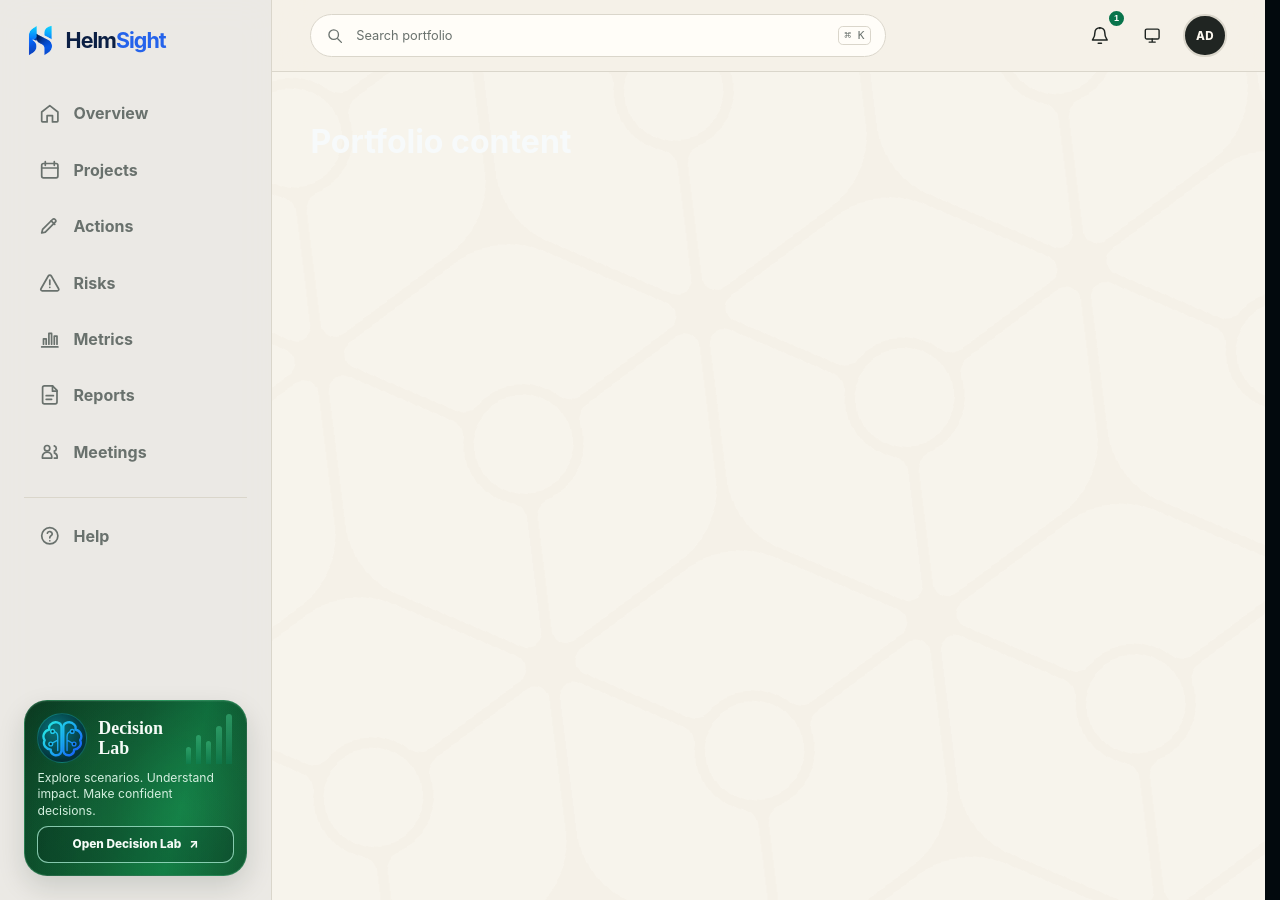
Test: Decision Lab modal › saves submitted decisions, allows closing, then resumes at feedback
Click the button with aria-label "Open Decision Lab": (136, 788) 24,700 -> 247,876
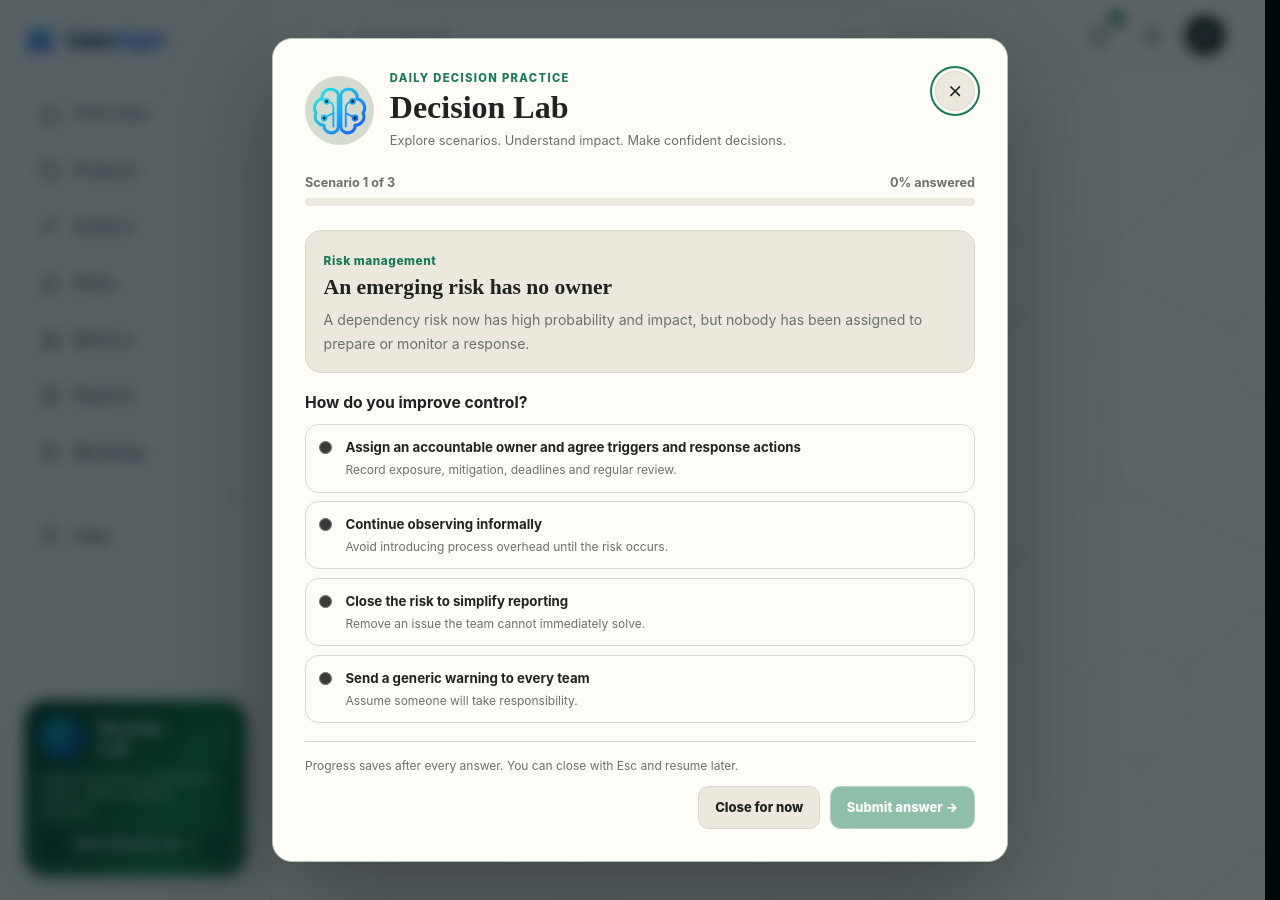
Click the 1st radio button: (325, 448) 319,441 -> 332,454
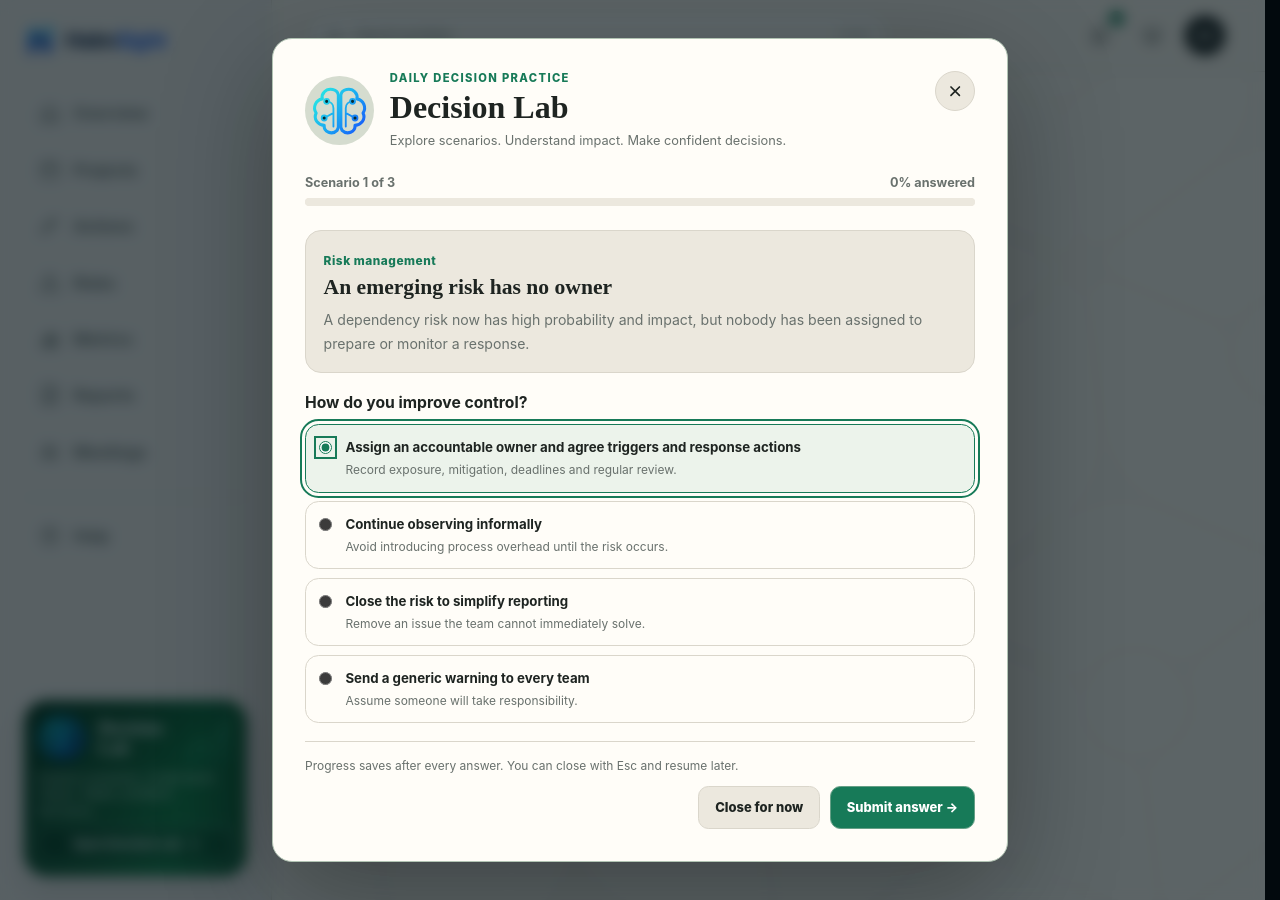
Click the button "Submit answer →": (902, 807) 830,786 -> 975,829
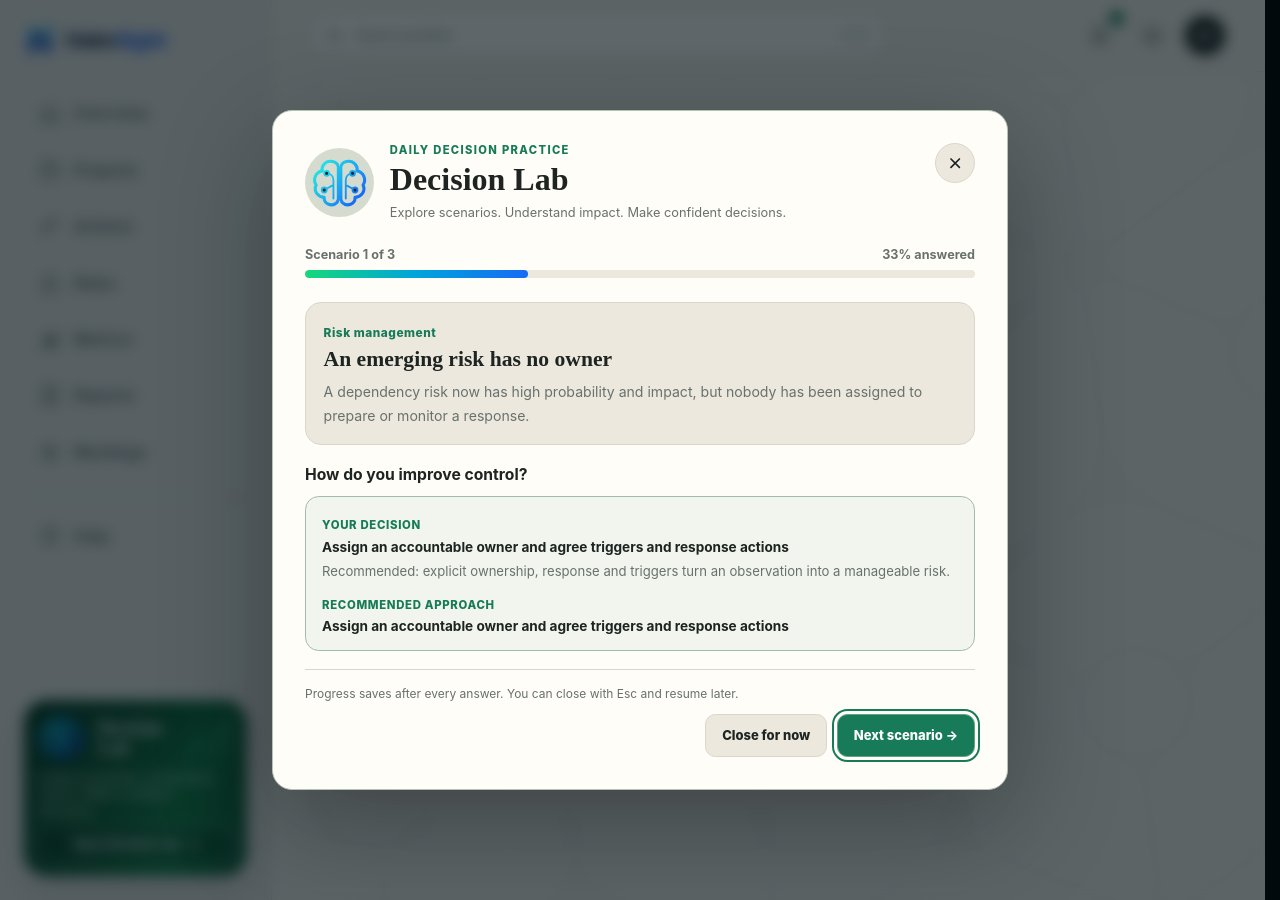
Now the text "Recommended approach" is shown, box 322,598 -> 495,612
Click the button "Close for now": (766, 735) 705,714 -> 827,757
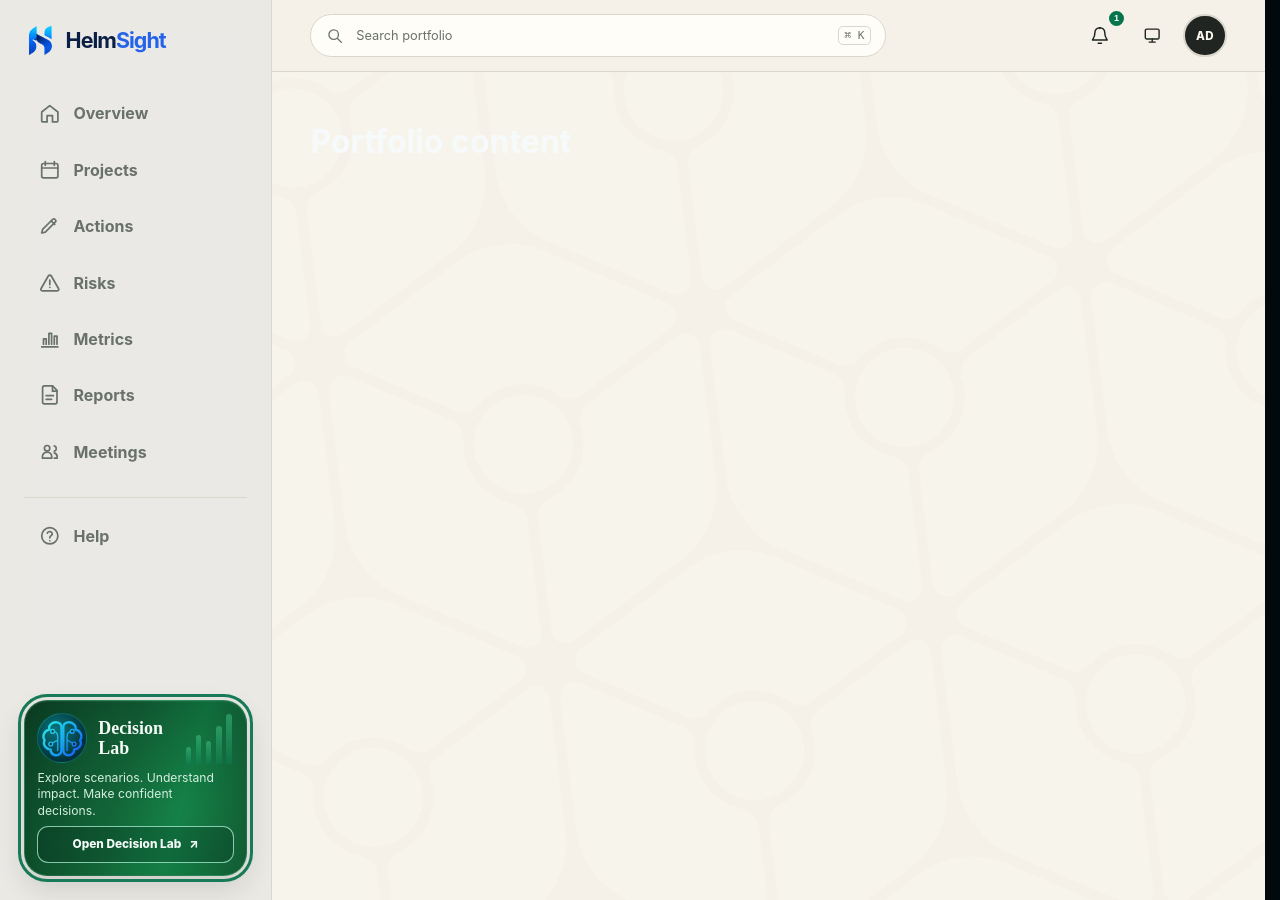
Click the button with aria-label "Open Decision Lab": (136, 788) 24,700 -> 247,876
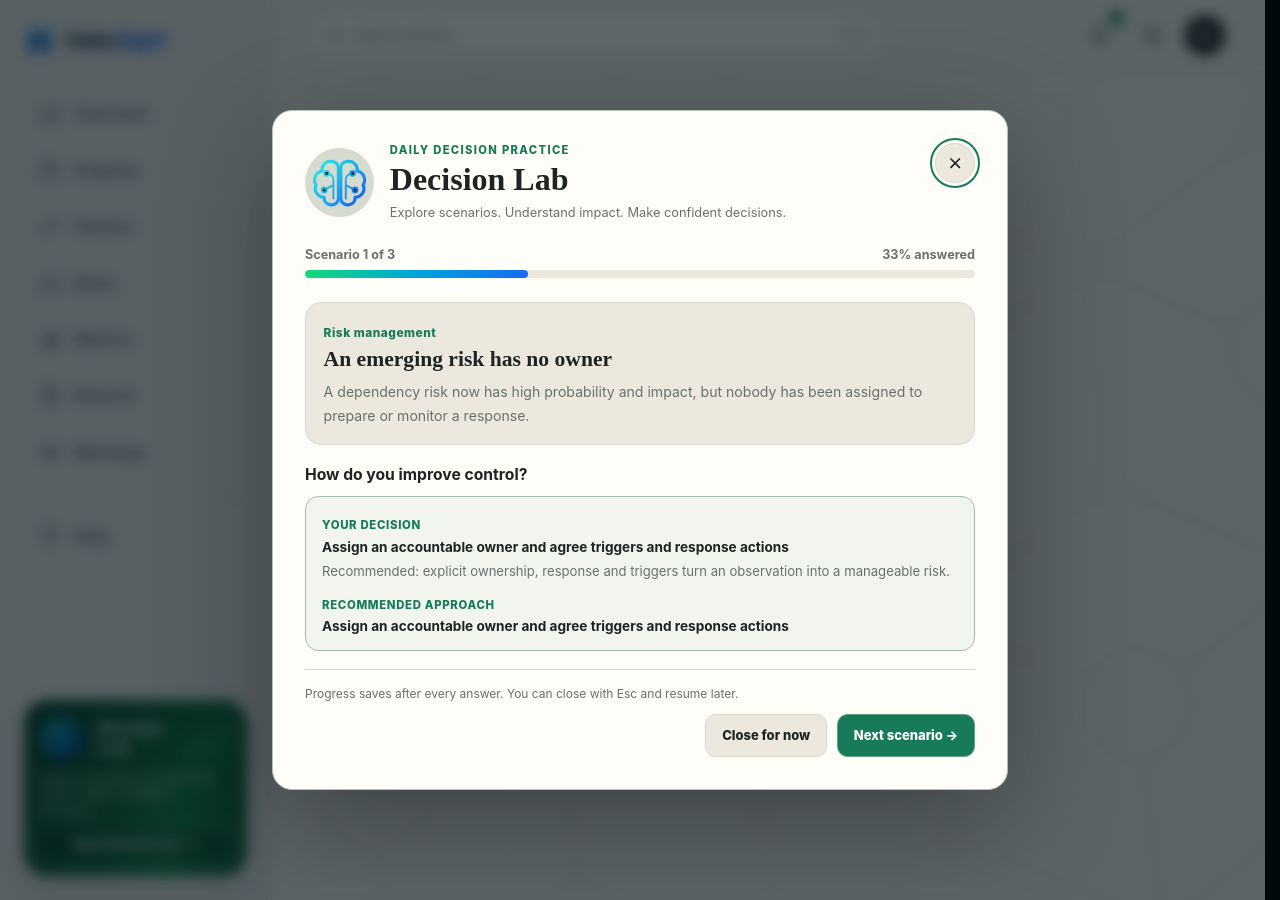
Now the text "Your decision" is shown, box 322,518 -> 421,532
Now the text "Scenario 1 of 3" is shown, box 305,247 -> 395,262
Click the button "Next scenario →": (906, 735) 837,714 -> 975,757
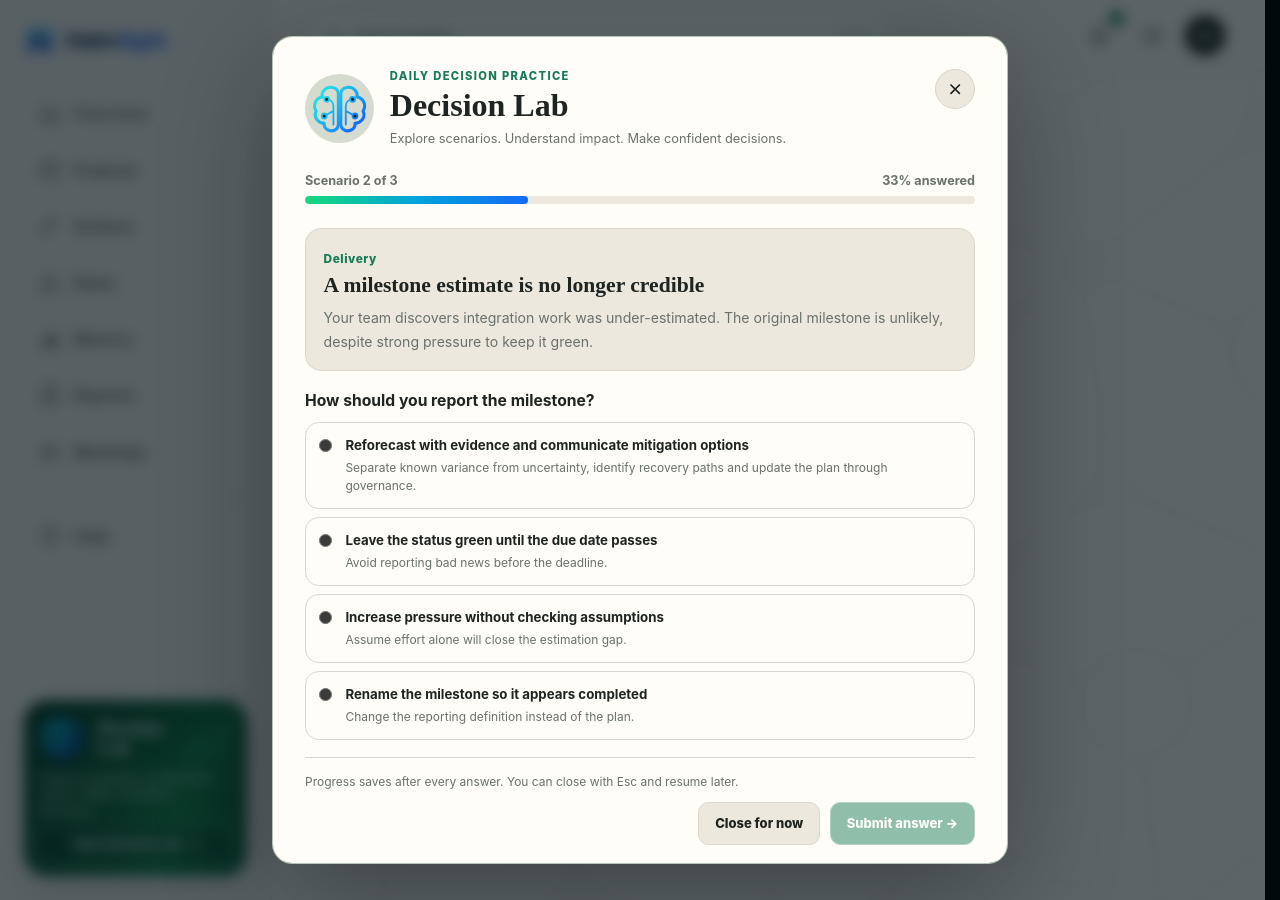
Now the text "Scenario 2 of 3" is shown, box 305,173 -> 398,188
